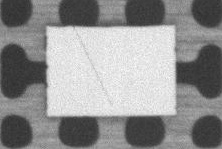DIE_CRACK: (109, 17, 165, 70)
